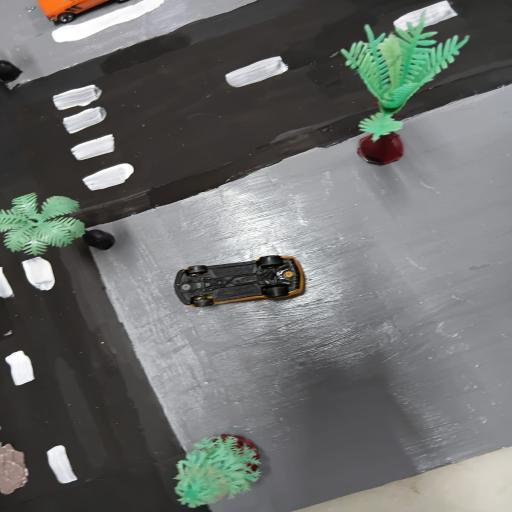car crash: (166, 254, 318, 306)
